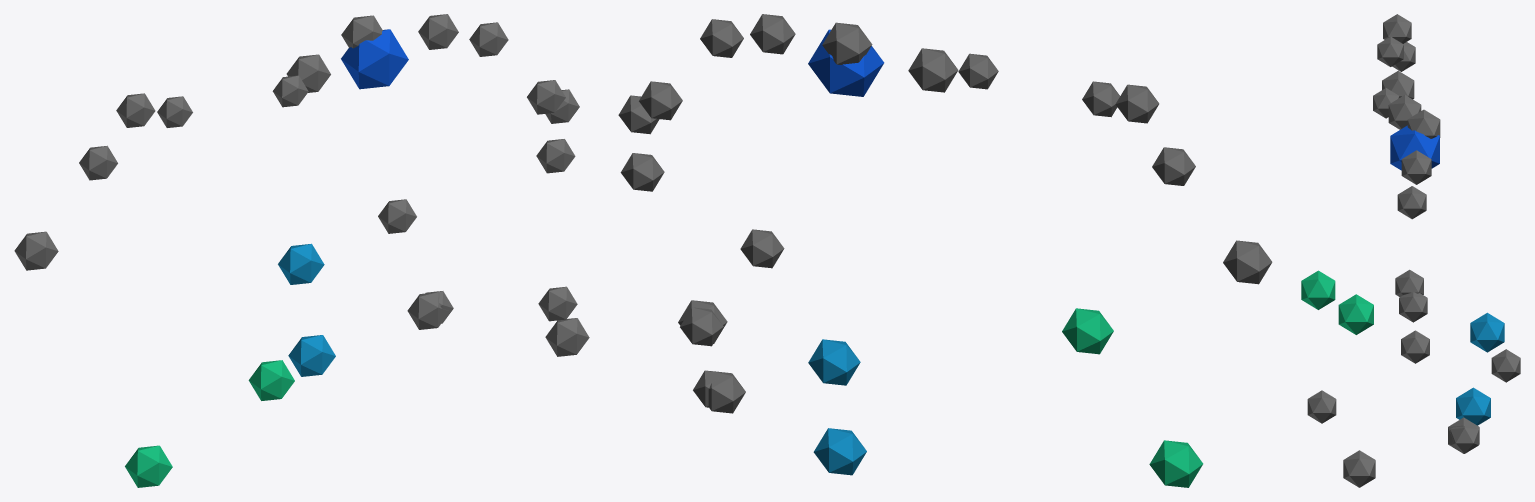
3 views of the same model, side by side, from view 1: azimuth 30°, elevation 25°; view 2: azimuth 150°, elevation 25°; view 3: azimuth 270°, elevation 25° (orthographic). The views are drawn at different scales.
Parts seen in each view (by area): view 1: 00_00_06; view 2: 00_00_06; view 3: 00_00_06.
Part boxes in pixels (left/top/right/bottom): 00_00_06: left=14, top=14, right=589, bottom=487; 00_00_06: left=618, top=14, right=1272, bottom=487; 00_00_06: left=1301, top=14, right=1520, bottom=487.
Bounding box in the file's own units: 0.6522 × 0.4166 × 0.2558.
